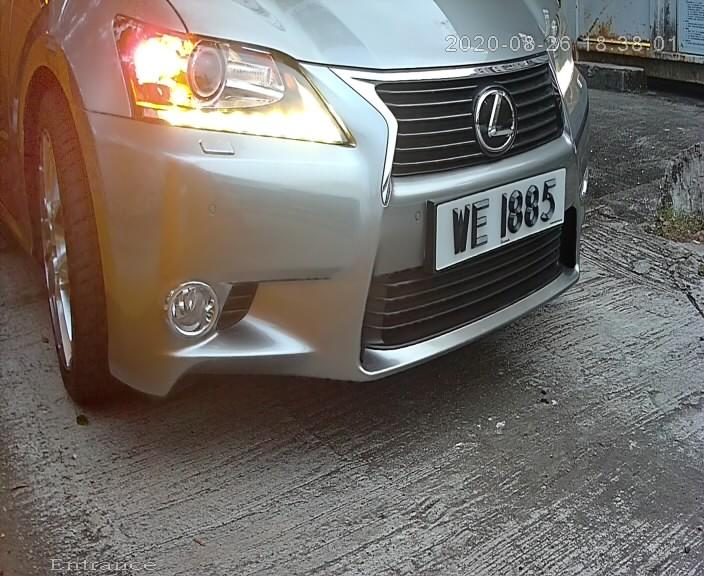Car: (13, 11, 664, 435)
License Plate: (409, 147, 579, 282)
